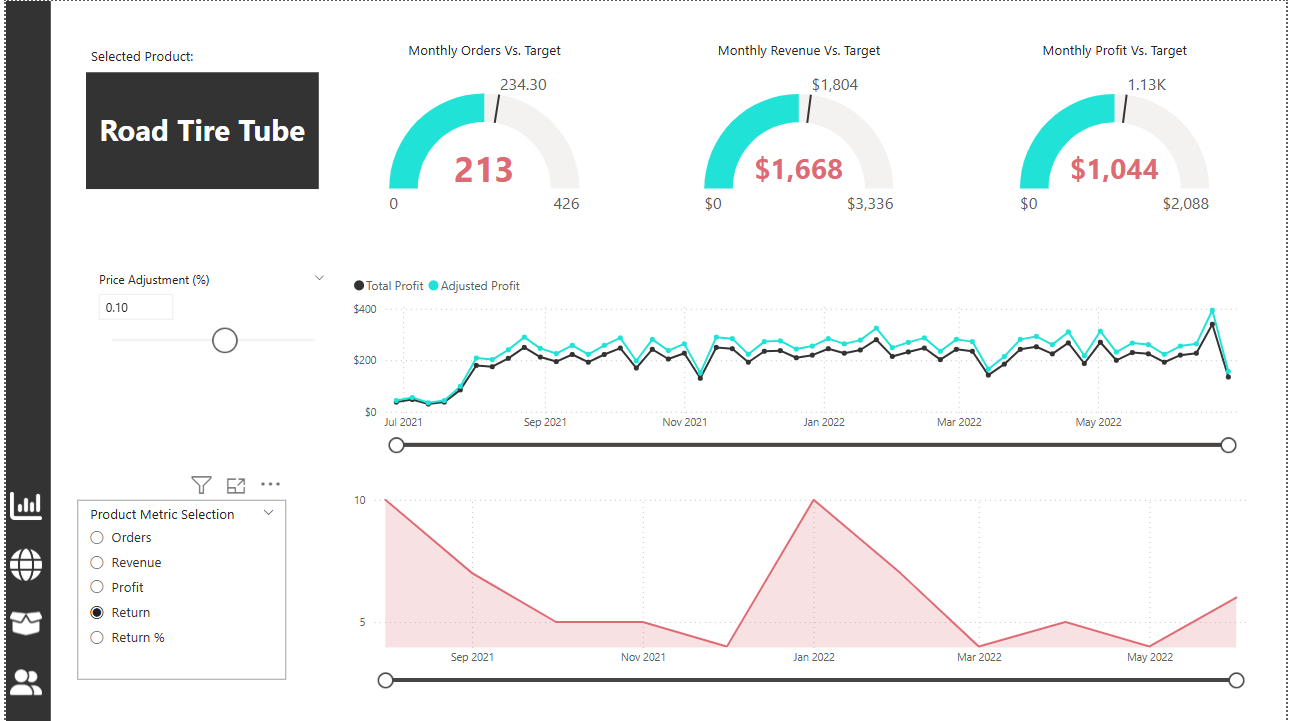

The dashboard page shown, as its layout file describes it:
{"tool":"powerbi","page":{"name":"Product Detail","canvas":[1280,720],"ordinal":2},"visuals":[{"type":"shape","box":[0,0,45,720],"z":0},{"type":"actionButton","box":[0,485,45,40],"z":1000,"group":"g1"},{"type":"gauge","title":"Monthly Orders Vs. Target","fields":{"Y":["Measure Table.Total Orders"],"TargetValue":["Measure Table.Order Target"]},"box":[363.8,40.3,229.5,184.3],"z":1000},{"type":"gauge","title":"Monthly Profit Vs. Target","fields":{"Y":["Measure Table.Total Profit"],"TargetValue":["Measure Table.Profit Target"]},"box":[995.9,40.3,225,184.3],"z":2000},{"type":"actionButton","box":[0,543.8,45,40],"z":2000,"group":"g1"},{"type":"gauge","title":"Monthly Revenue Vs. Target","fields":{"Y":["Measure Table.Total Revenue"],"TargetValue":["Measure Table.Target Revenue"]},"box":[680.4,40.3,226.1,184.3],"z":3000},{"type":"actionButton","box":[0,602.5,45,40],"z":3000,"group":"g1"},{"type":"actionButton","box":[0,661.2,45,40],"z":4000,"group":"g1"},{"type":"lineChart","title":"Profit Trending","fields":{"Category":["Calendar Lookup.Date Hierarchy.Start of Year","Calendar Lookup.Date Hierarchy.Start of Month","Calendar Lookup.Date Hierarchy.Start of Week","Calendar Lookup.Date Hierarchy.Date"],"Y":["Measure Table.Total Profit","Measure Table.Adjusted Profit"]},"box":[342.6,264.6,909,190],"z":4000},{"type":"areaChart","title":"Return Trending","fields":{"Y":["Measure Table.Total Return"],"Category":["Calendar Lookup.Date Hierarchy.Start of Year","Calendar Lookup.Date Hierarchy.Start of Month","Calendar Lookup.Date Hierarchy.Start of Week","Calendar Lookup.Date Hierarchy.Date"]},"box":[342.6,485.1,917,204.6],"z":5000},{"type":"card","fields":{"Values":["Min(Product Lookup.ProductName)"]},"box":[80.1,71.2,232.9,116.5],"z":6000},{"type":"textbox","box":[80.1,40.7,141.3,30.5],"z":7000},{"type":"group","id":"g1","title":"Navigation Buttons","box":[0,485,45,216.2],"z":8000},{"type":"slicer","fields":{"Values":["Price Adjustment (%).Price Adjustment (%)"]},"box":[80.3,264.6,251,110.8],"z":9000},{"type":"slicer","fields":{"Values":["Product Metric Selection.Product Metric Selection"]},"box":[71.2,498.6,209.2,179.8],"z":10000}]}

Visuals, with their boxes on the page's 1280x720 design canvas (x1, y1, x2, y2). These are canvas units, not pixel positions in the 1291x721 screenshot, which may show the page scaled, cropped or inside an application window:
shape: (x1=0, y1=0, x2=45, y2=720)
actionButton: (x1=0, y1=485, x2=45, y2=525)
"Monthly Orders Vs. Target" gauge: (x1=364, y1=40, x2=593, y2=225)
"Monthly Profit Vs. Target" gauge: (x1=996, y1=40, x2=1221, y2=225)
actionButton: (x1=0, y1=544, x2=45, y2=584)
"Monthly Revenue Vs. Target" gauge: (x1=680, y1=40, x2=906, y2=225)
actionButton: (x1=0, y1=602, x2=45, y2=642)
actionButton: (x1=0, y1=661, x2=45, y2=701)
"Profit Trending" lineChart: (x1=343, y1=265, x2=1252, y2=455)
"Return Trending" areaChart: (x1=343, y1=485, x2=1260, y2=690)
card - Min(Product Lookup.ProductName): (x1=80, y1=71, x2=313, y2=188)
textbox: (x1=80, y1=41, x2=221, y2=71)
"Navigation Buttons" group: (x1=0, y1=485, x2=45, y2=701)
slicer - Price Adjustment (%).Price Adjustment (%): (x1=80, y1=265, x2=331, y2=375)
slicer - Product Metric Selection.Product Metric Selection: (x1=71, y1=499, x2=280, y2=678)
